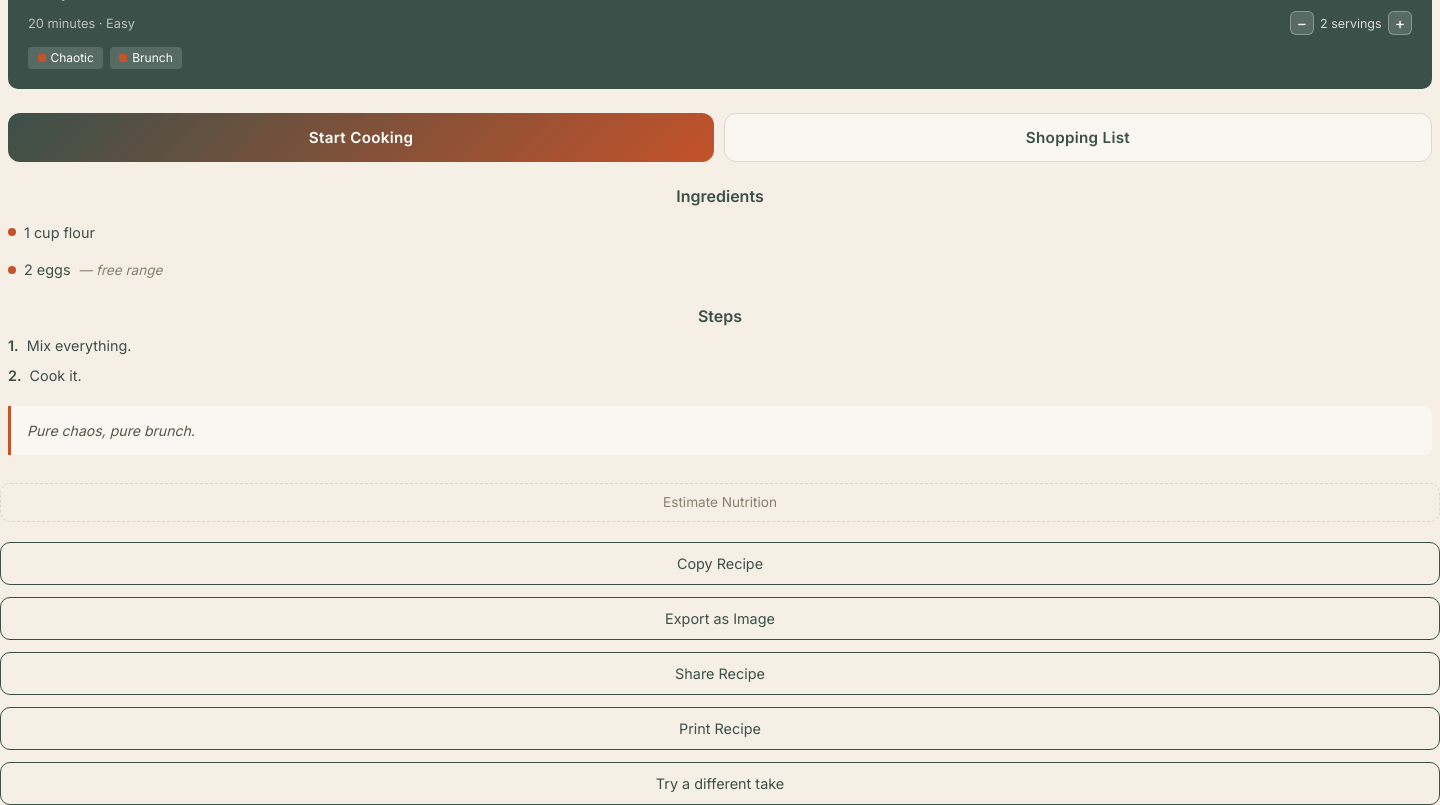
Test: RecipeCard — regenerate confirmation › shows confirmation dialog when 'Try a different take' is clicked
(page scrolled)
Click the button "Try a different take": (720, 783) [0,762,1439,804]
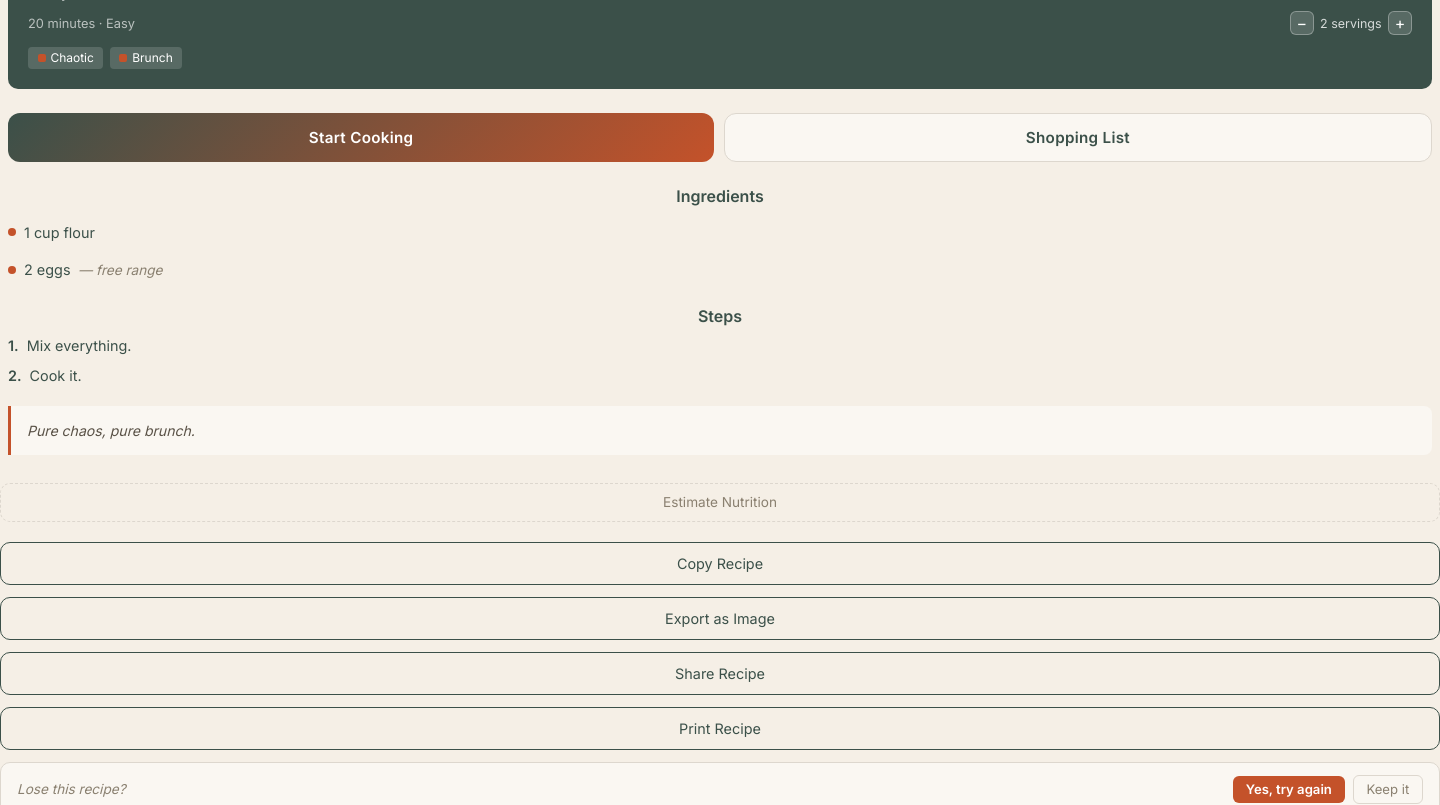
Expected: the text "Lose this recipe?" is shown, [17,781,126,797]
Expected: the button "Yes, try again" is shown, [1233,776,1345,803]
Expected: the button "Keep it" is shown, [1353,774,1423,804]
